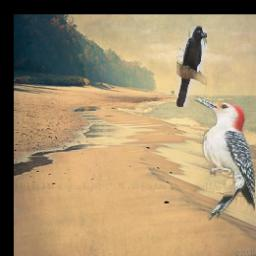Crow: (178, 27, 208, 108)
Woodpecker: (192, 96, 256, 222)
